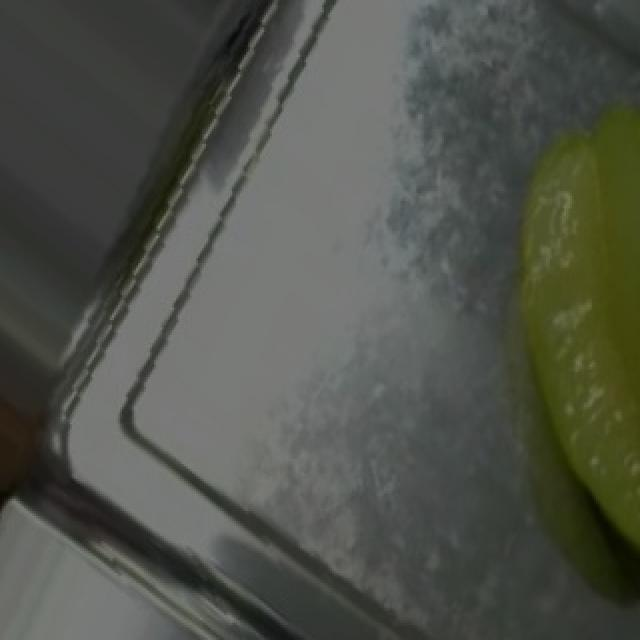fruit: (470, 77, 640, 409), (488, 245, 640, 586)
